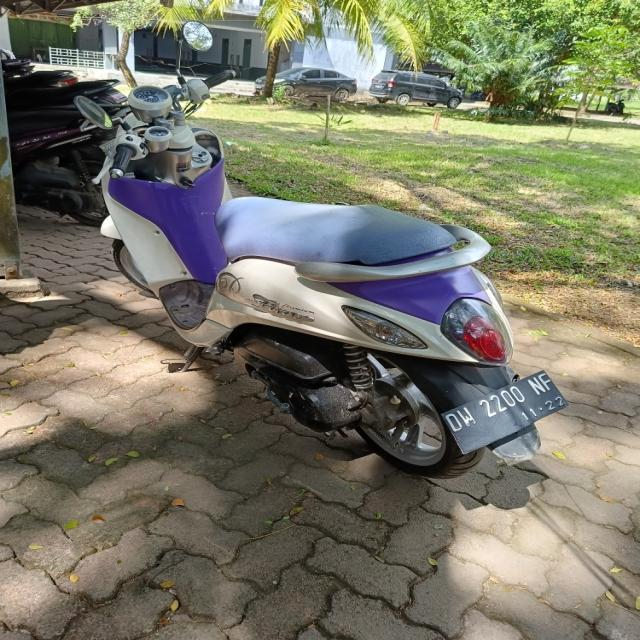plates: (444, 372, 570, 454)
